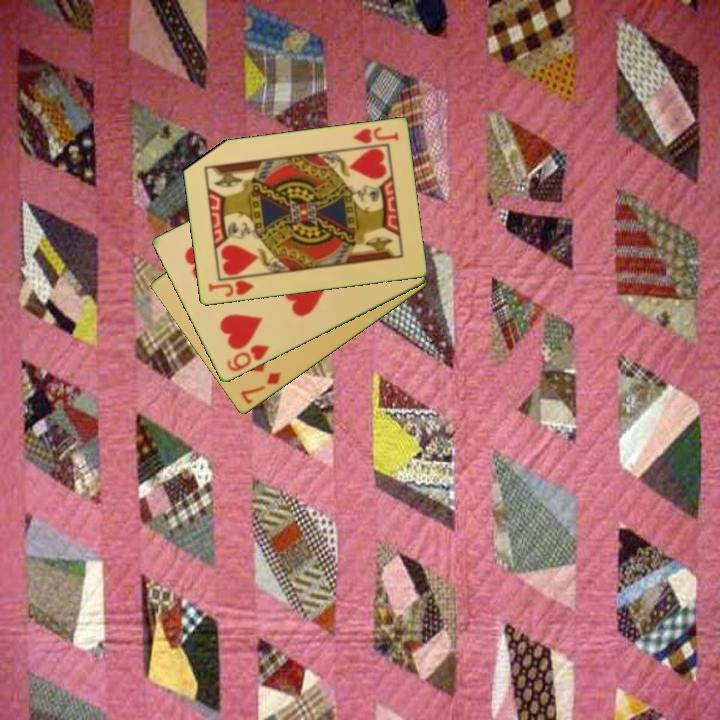6h: (223, 341, 272, 375)
7d: (237, 369, 284, 408)
Jh: (204, 272, 259, 300), (350, 124, 401, 147)
